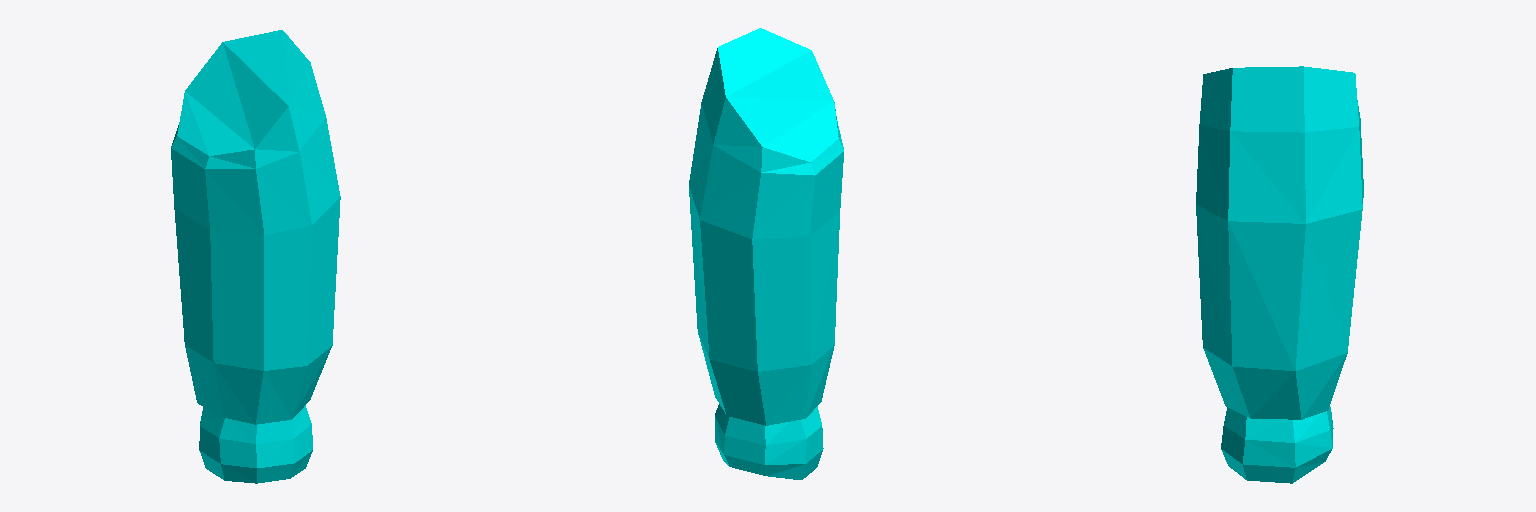
Rendered from player_things_l.obj.
3 renders of one model, left to right at view 1: azimuth 30°, elevation 25°; view 2: azimuth 150°, elevation 25°; view 3: azimuth 270°, elevation 25°, orthographic.
Parts seen in each view (by area): view 1: player_thighs_l1:DummyMeshpolySurface29group3; view 2: player_thighs_l1:DummyMeshpolySurface29group3; view 3: player_thighs_l1:DummyMeshpolySurface29group3.
Boxes of the visible parts, box(x1,y1,x2,y2) form: player_thighs_l1:DummyMeshpolySurface29group3: box(171, 30, 340, 483); player_thighs_l1:DummyMeshpolySurface29group3: box(689, 28, 843, 479); player_thighs_l1:DummyMeshpolySurface29group3: box(1196, 66, 1363, 483).
Bounding box in the file's own units: 0.1872 × 0.562 × 0.2054.